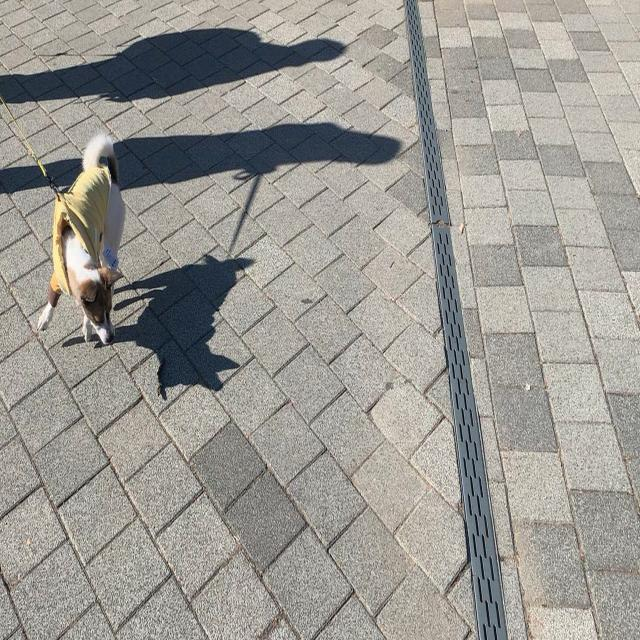Dog: (36, 133, 125, 345)
